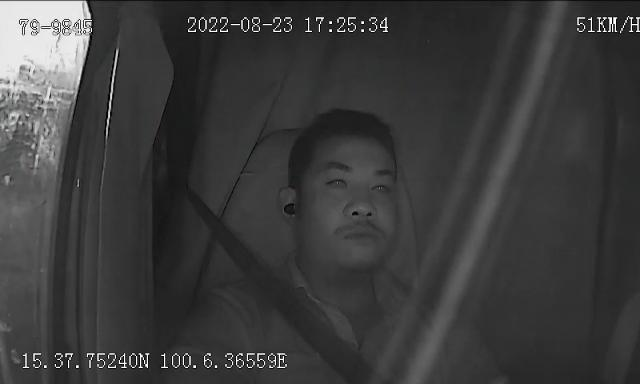SafeDriving: (320, 166, 354, 196), (364, 170, 398, 198)
Seatbelt: (210, 216, 378, 384)
